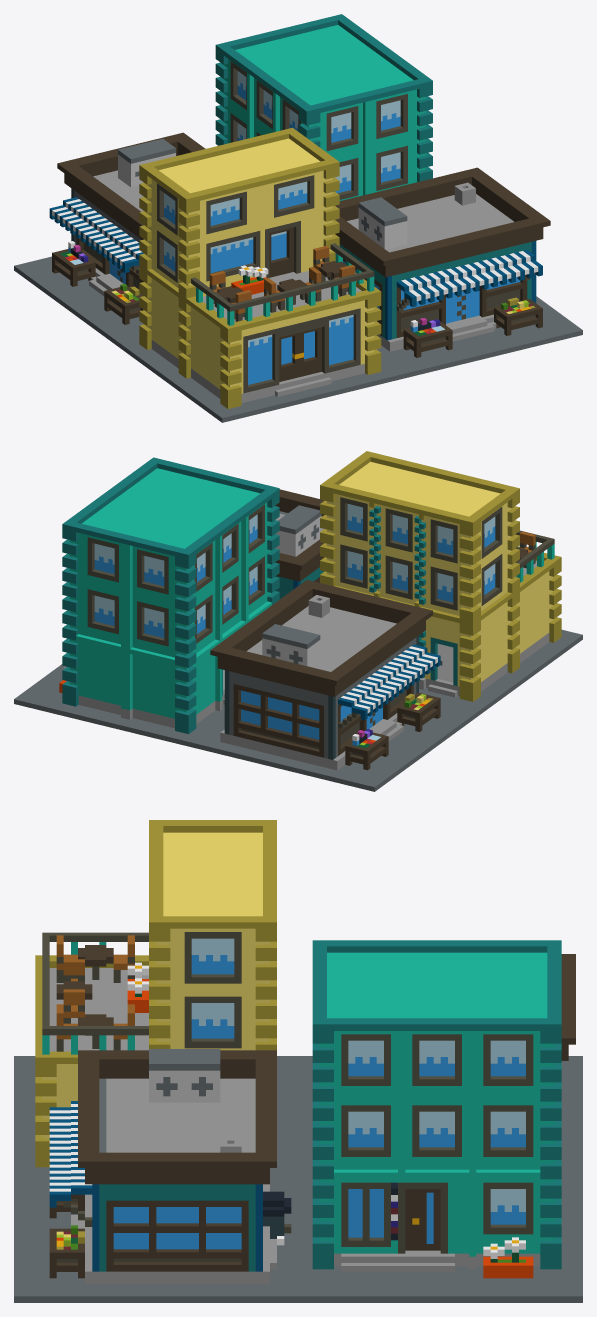
The model's file is building_small_8_overtile.obj.
3 views of the same model, one above another, from view 1: azimuth 30°, elevation 25°; view 2: azimuth 150°, elevation 25°; view 3: azimuth 270°, elevation 25° (orthographic). The views are drawn at different scales.
Bounding box in the file's own units: 8 × 3.9 × 8.
Materials: 1 (1 with a texture image).
